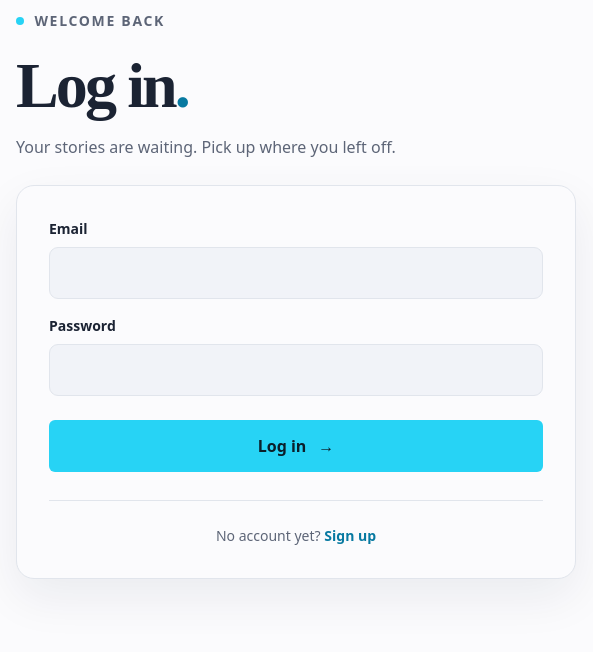
Test case: LoginPage › shows a retry message when the login fails for another reason
Type "alice@example.com" into the field labelled "Email". click: {"x": 296, "y": 273}
box: [49,247,543,299]
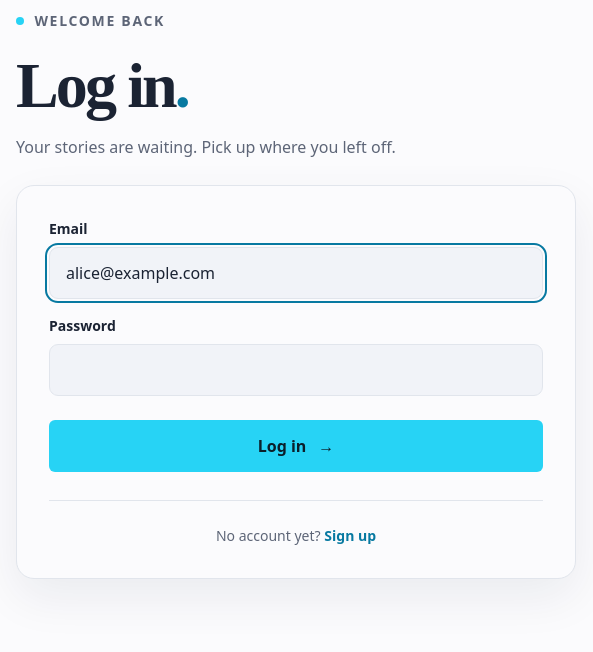
Type "S3curePassw0rd!" into the password field labelled "Password". click: {"x": 296, "y": 370}
box: [49,344,543,396]
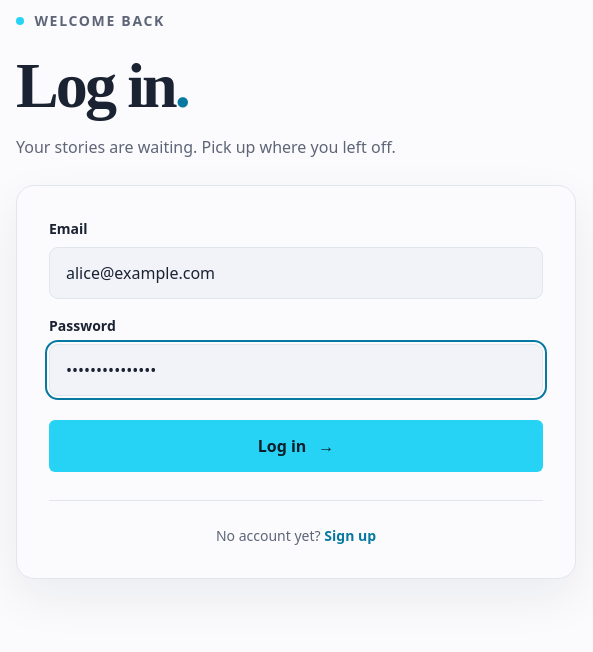
Click the button "Log in →". click: {"x": 296, "y": 446}
box: [49,420,543,472]
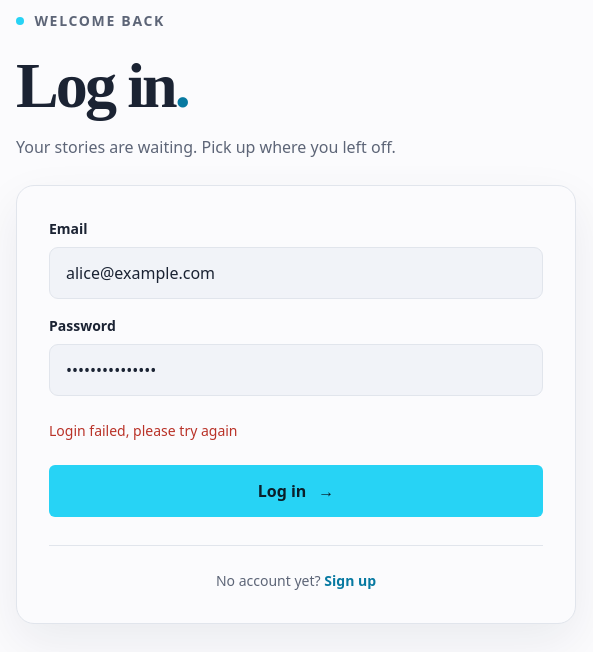
Now the text "Login failed, please try again" is shown, box [49,421,238,440]
